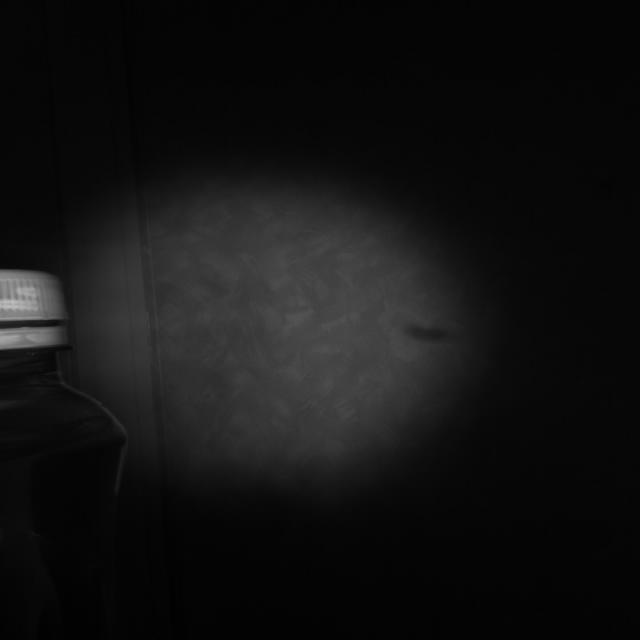Not Good: (0, 267, 68, 353)
